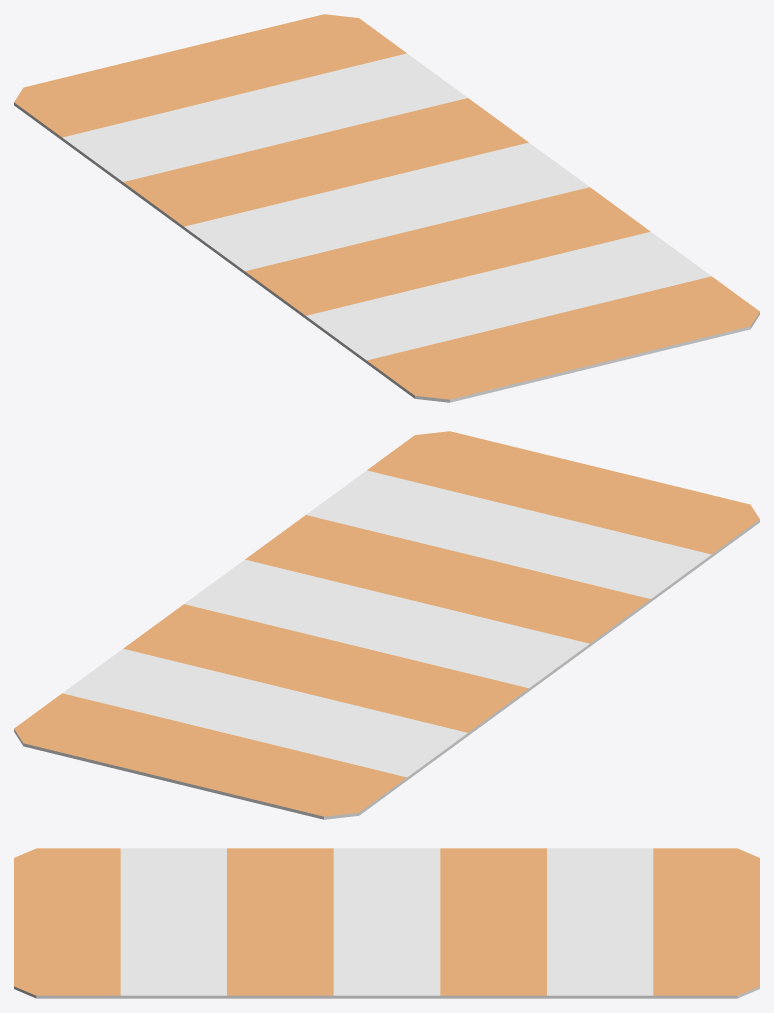
The model's file is Carpet_18.fbx.
3 views of the same model, one above another, from view 1: azimuth 30°, elevation 25°; view 2: azimuth 150°, elevation 25°; view 3: azimuth 270°, elevation 25° (orthographic). The views are drawn at different scales.
Visible parts, largest first — view 1: Carpet_18; view 2: Carpet_18; view 3: Carpet_18.
Boxes of the visible parts, box(x1,y1,x2,y2) form: Carpet_18: box(14, 14, 759, 402); Carpet_18: box(14, 431, 759, 819); Carpet_18: box(14, 848, 759, 998).
Bounding box in the file's own units: 0.7489 × 0.0065 × 1.6.
